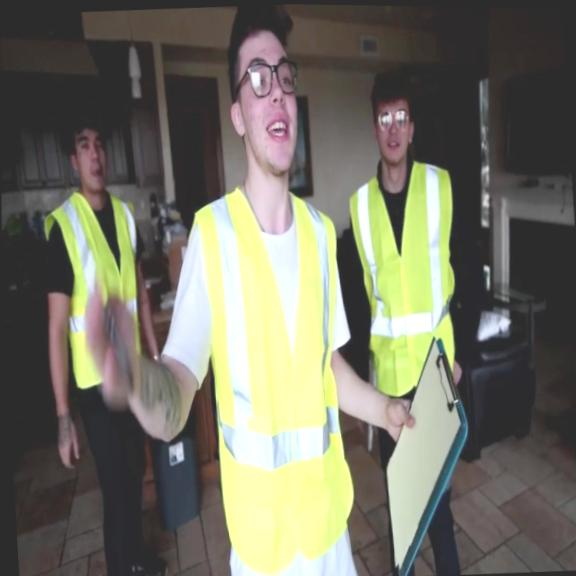safety_vest: (187, 182, 359, 576), (349, 155, 462, 400), (40, 191, 146, 390)
